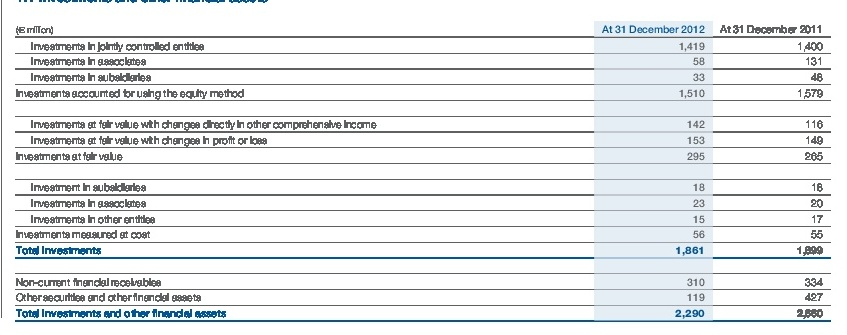table: (0, 0, 847, 335)
